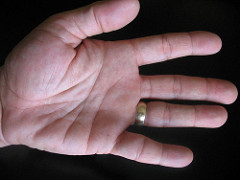palm: (22, 37, 133, 155)
